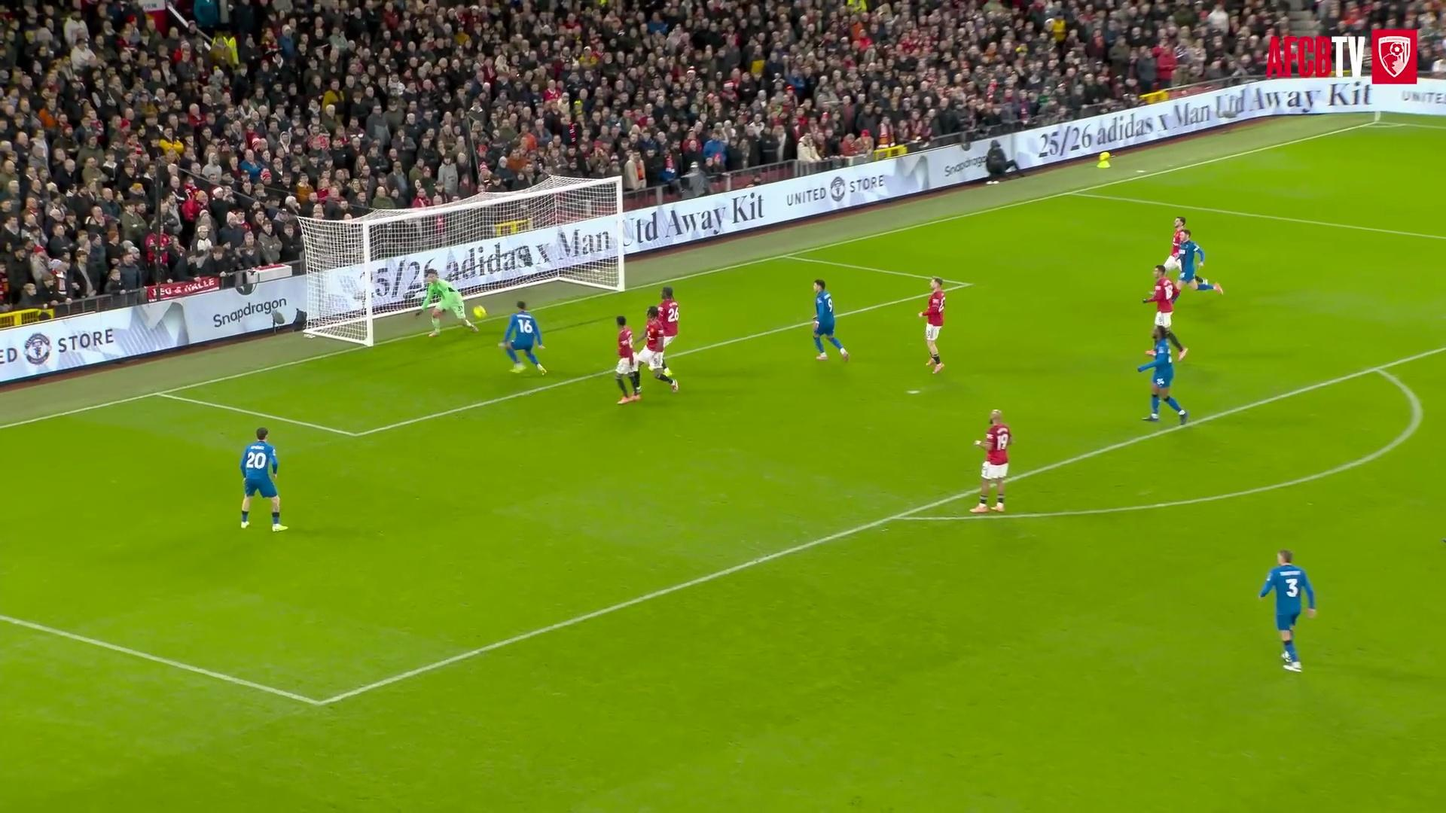football: (472, 305, 487, 318)
player: (1259, 550, 1315, 671), (1137, 325, 1188, 425), (241, 428, 286, 531), (970, 410, 1011, 513), (1143, 265, 1187, 359), (418, 269, 477, 336), (1175, 230, 1224, 299), (639, 306, 678, 391), (500, 301, 545, 374), (813, 279, 847, 360), (920, 276, 944, 373), (615, 316, 640, 403), (658, 286, 679, 349), (1164, 216, 1185, 271)
